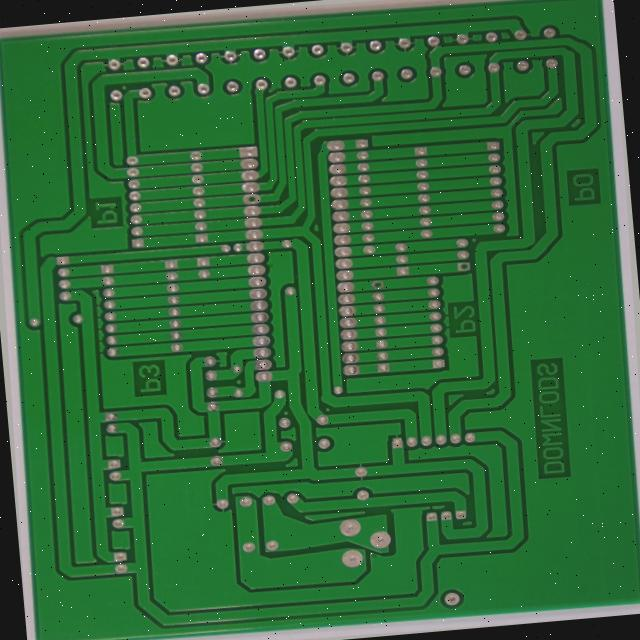missing_hole: (236, 189, 257, 205), (367, 275, 388, 289), (455, 255, 475, 269)
